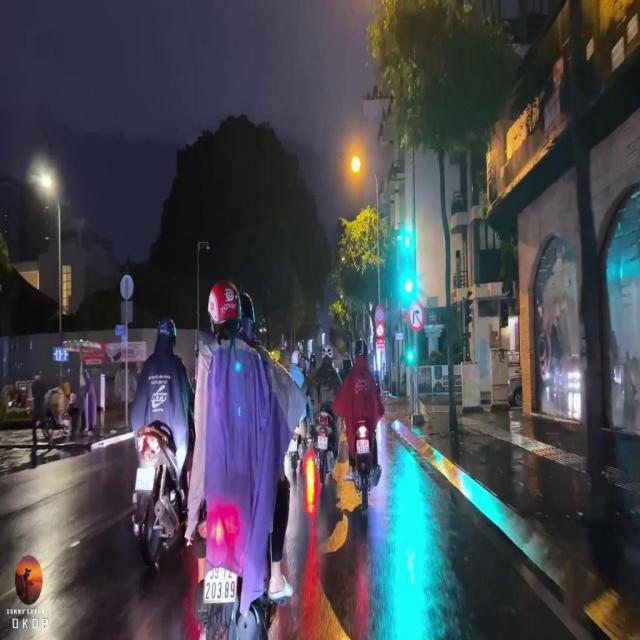cam_dung_xe_va_do_xe: (374, 308, 384, 323)
cam_re_phai: (408, 302, 424, 332)
huong_di_tren_moi_lan_duong_theo_vach_ke_duong: (52, 347, 70, 361)
object: (376, 324, 385, 338)
